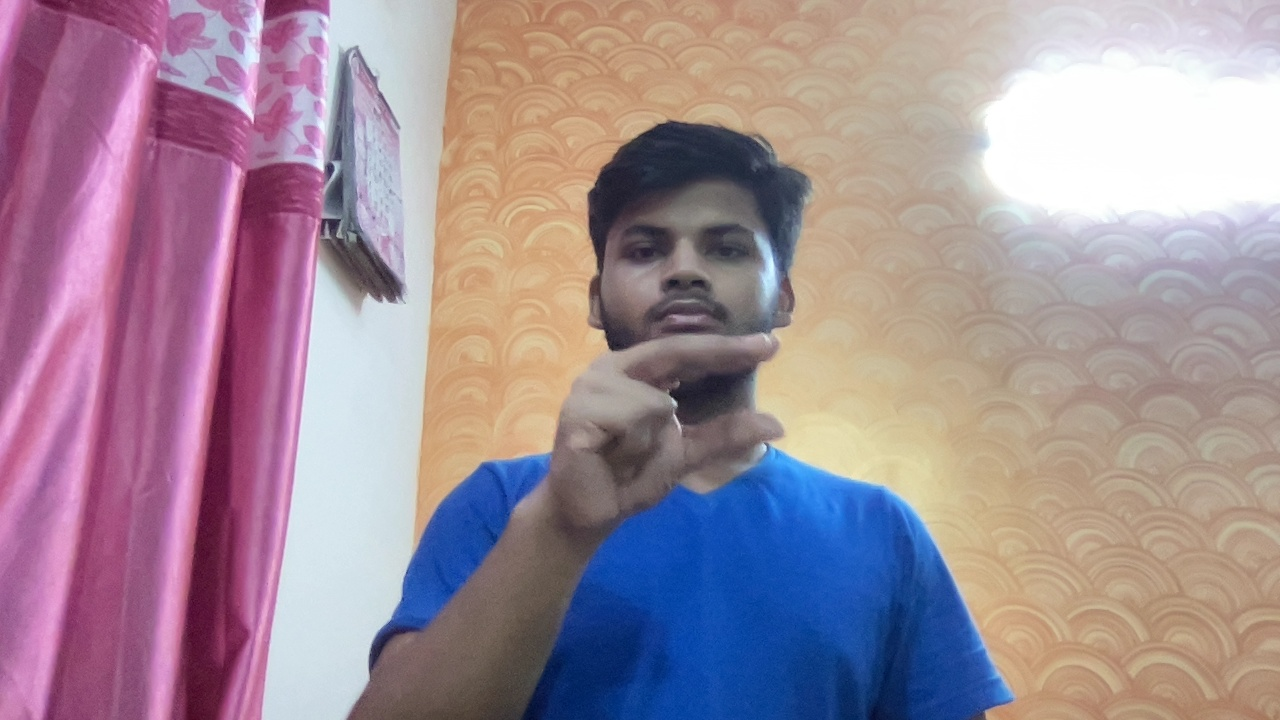no: (514, 319, 809, 543)
